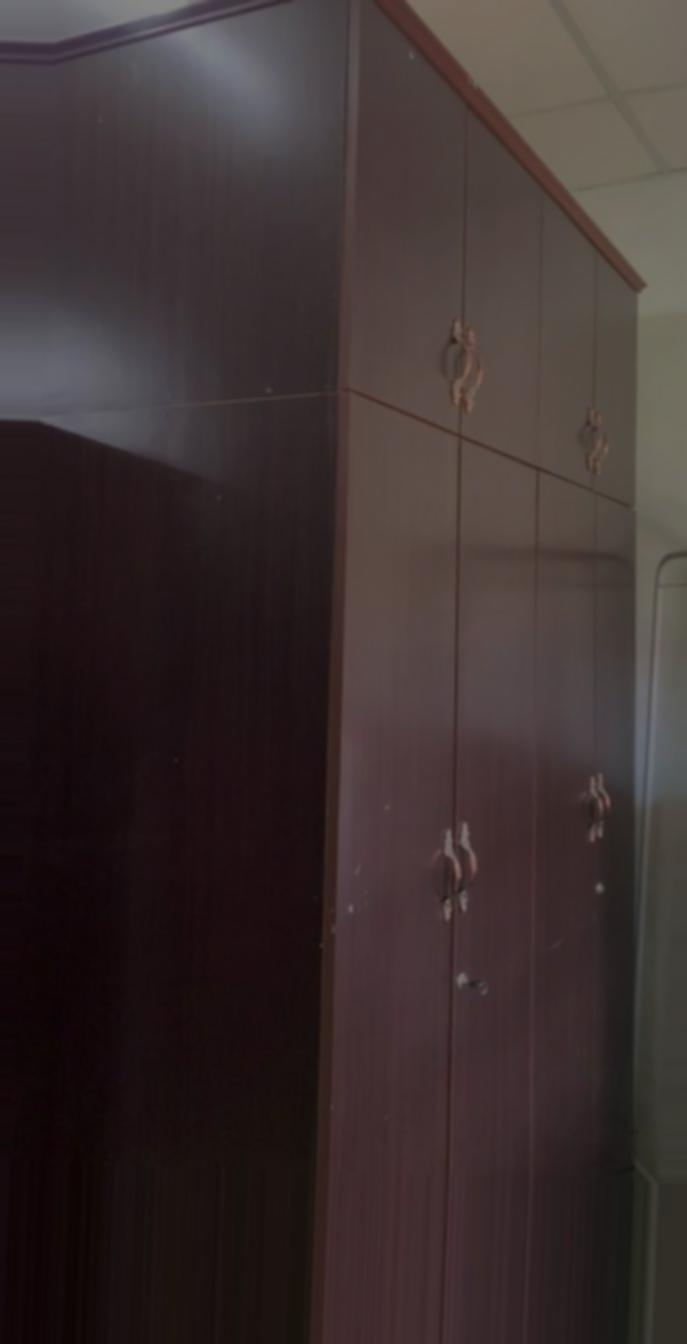Armario: (6, 17, 635, 1343)
